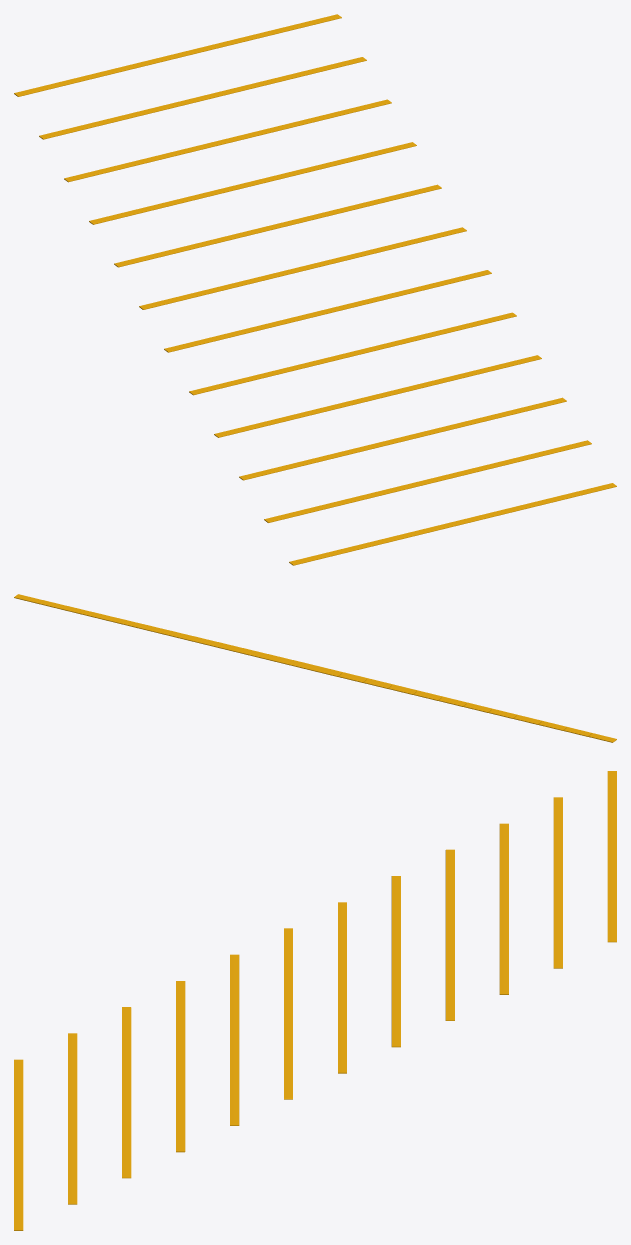
Rendered from gteki_ik_stair_n12_r171_t319_w2400_nosing.glb.
3 views of the same model, one above another, from view 1: azimuth 30°, elevation 25°; view 2: azimuth 150°, elevation 25°; view 3: azimuth 270°, elevation 25° (orthographic). The views are drawn at different scales.
Visible parts, largest first — view 1: VIS_nosings; view 2: VIS_nosings; view 3: VIS_nosings.
Boxes of the visible parts, <box> form: VIS_nosings: <box>14,14,616,565</box>; VIS_nosings: <box>14,594,616,742</box>; VIS_nosings: <box>14,771,616,1230</box>.
Bounding box in the file's own units: 2.38 × 1.89 × 3.56.
